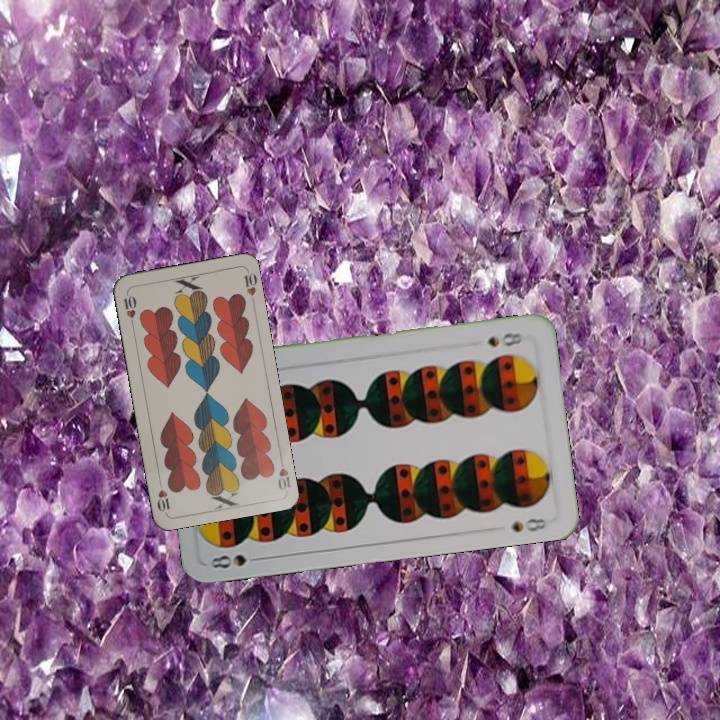H10: (119, 288, 139, 329), (274, 453, 293, 493)
S8: (206, 550, 266, 571), (483, 329, 525, 349)
